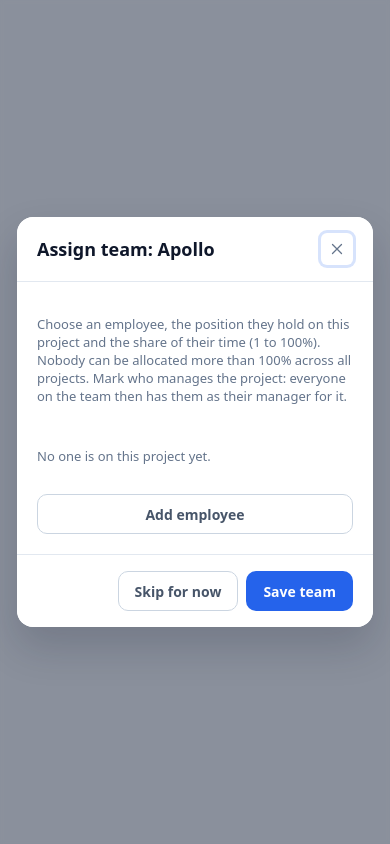
ProjectTeamDialogComponent › labels every field of a row so the narrow layout can show the label
Click the button "Add employee".
click(195, 514)  # box [37,494,353,534]
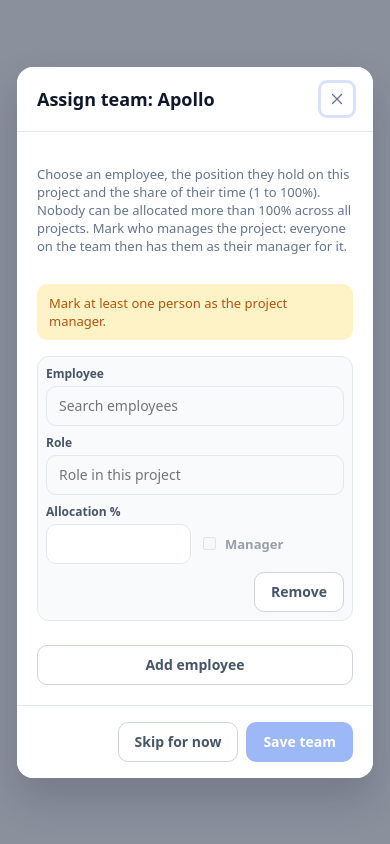
Check: the text "Manager" is shown, box [225,534,283,552]
